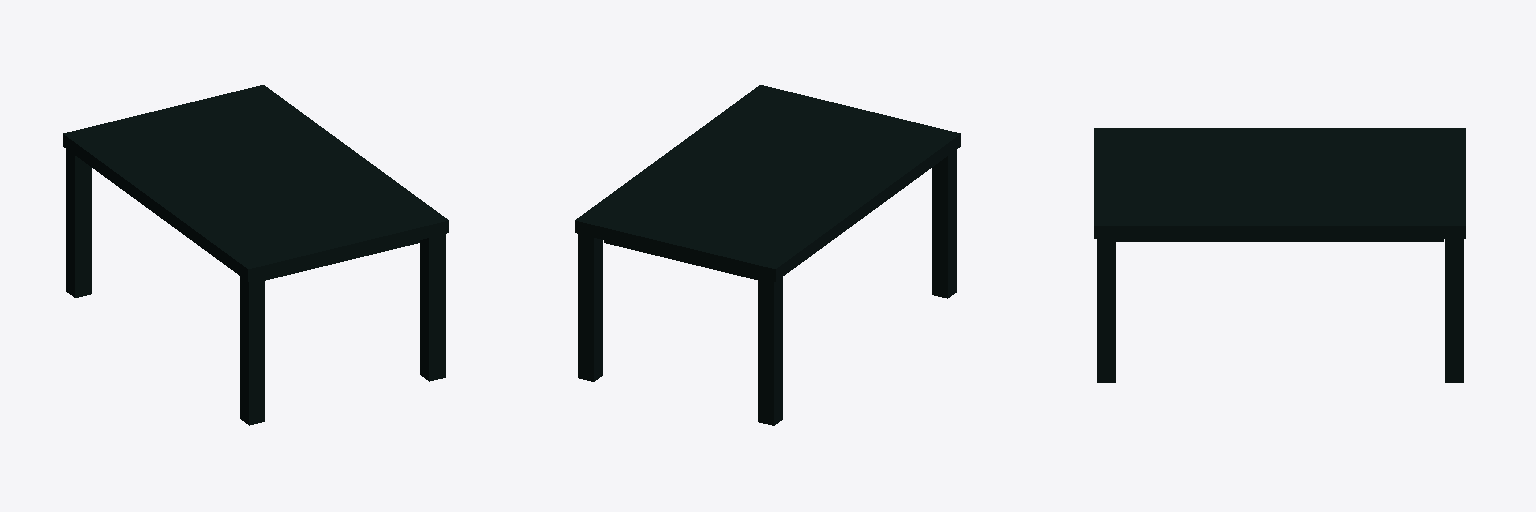
Rendered from Table_A.obj.
3 renders of one model, left to right at view 1: azimuth 30°, elevation 25°; view 2: azimuth 150°, elevation 25°; view 3: azimuth 270°, elevation 25°, orthographic.
Parts seen in each view (by area): view 1: Table_A; view 2: Table_A; view 3: Table_A.
Part boxes in pixels (x1,y1,x2,y2): Table_A: (63, 85, 448, 425); Table_A: (575, 85, 960, 425); Table_A: (1094, 128, 1465, 382).
Size of the model in its own units: 5.12 by 3.84 by 8.19.